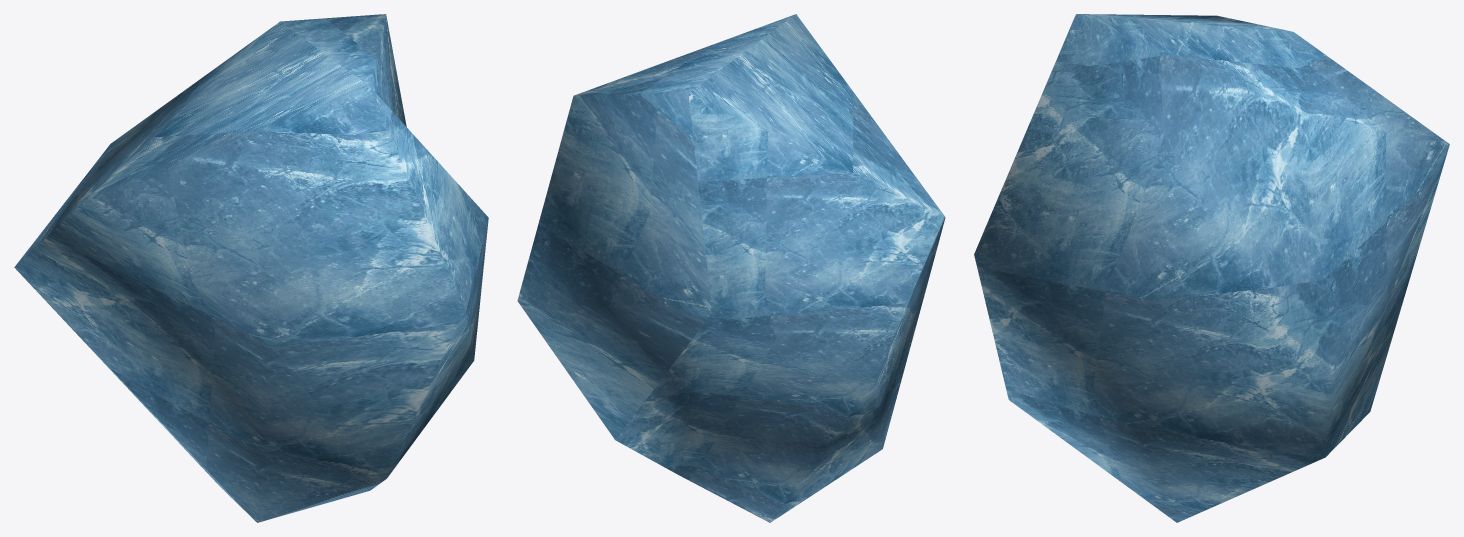
Rendered from ice.FBX.
3 views of the same model, side by side, from view 1: azimuth 30°, elevation 25°; view 2: azimuth 150°, elevation 25°; view 3: azimuth 270°, elevation 25° (orthographic). The views are drawn at different scales.
Parts seen in each view (by area): view 1: Sphere001; view 2: Sphere001; view 3: Sphere001.
Part boxes in pixels (left/top/right/bottom): Sphere001: left=14, top=14, right=488, bottom=522; Sphere001: left=517, top=14, right=945, bottom=522; Sphere001: left=974, top=14, right=1449, bottom=522.
Size of the model in its own units: 248 by 273 by 243.
